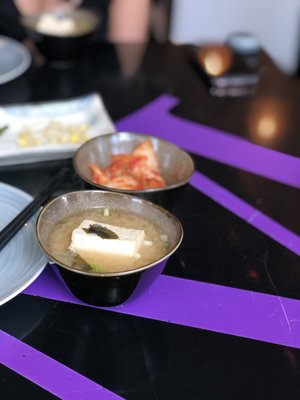sushi: (36, 190, 184, 307), (72, 132, 194, 197)
